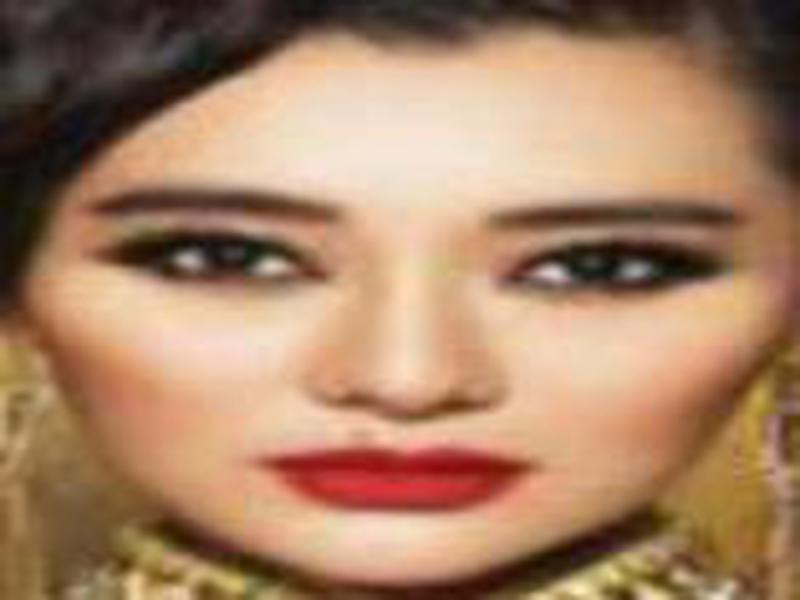without_mask: (38, 33, 774, 585)
